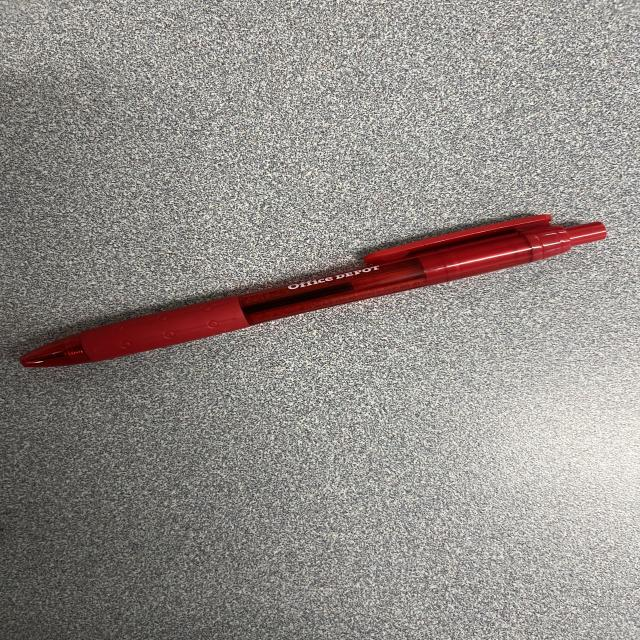pen: (21, 213, 605, 368)
